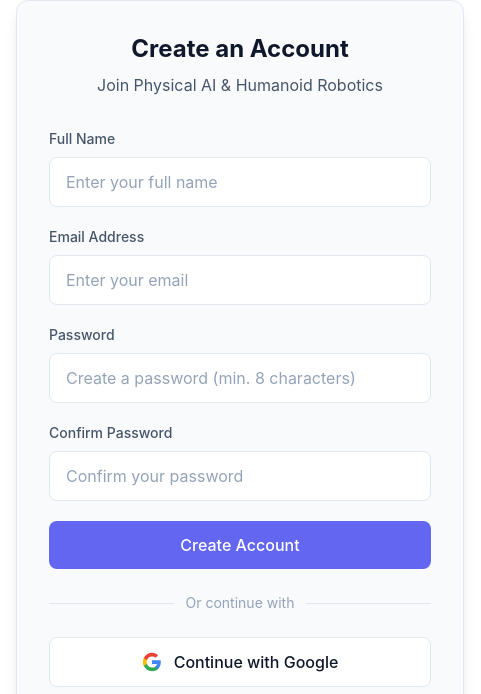
Test: RegisterForm › Form Validation › should show error when password is too short
Type "Test User" into the field labelled "Full Name" at (240, 182), box [49,157,431,207]
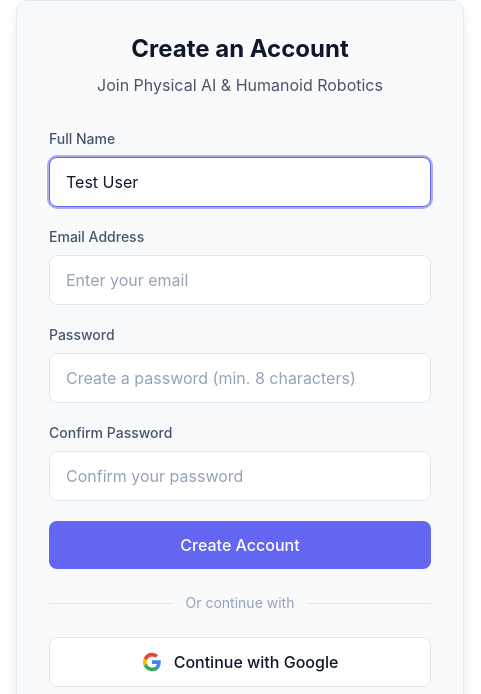
Type "test@example.com" into the field labelled "Email Address" at (240, 280), box [49,255,431,305]
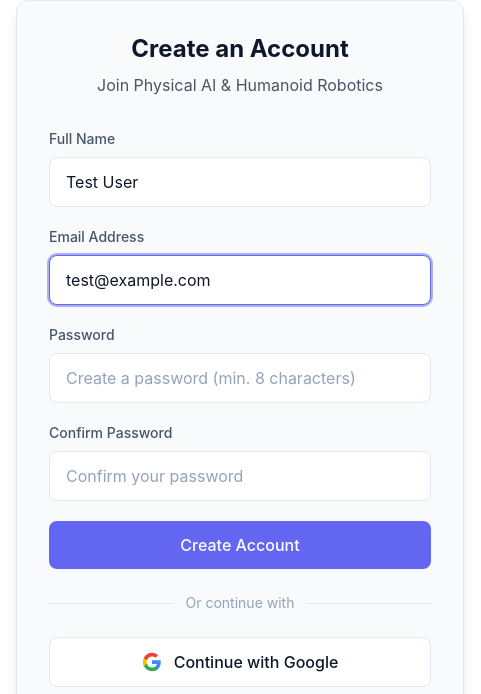
Type "short" into the password field labelled "Password" at (240, 378), box [49,353,431,403]
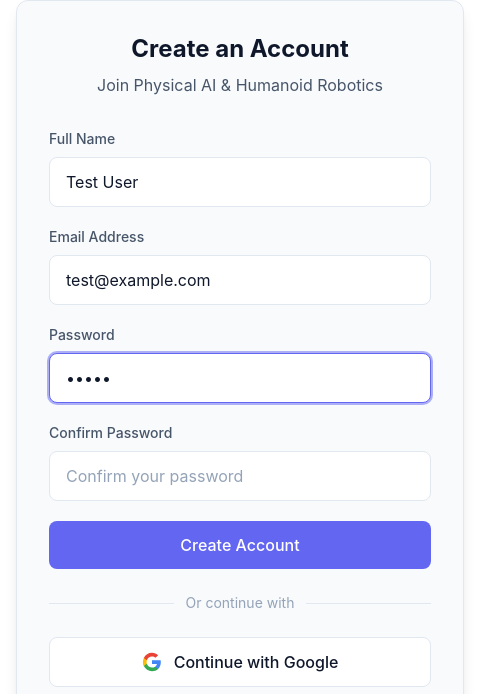
Click the button "Create Account" at (240, 545), box [49,521,431,569]
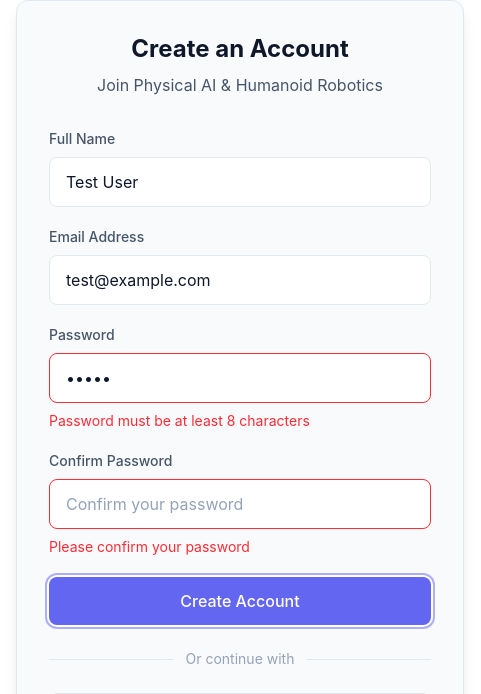
Now the text "Password must be at least 8 characters" is shown, box [49,412,310,429]
